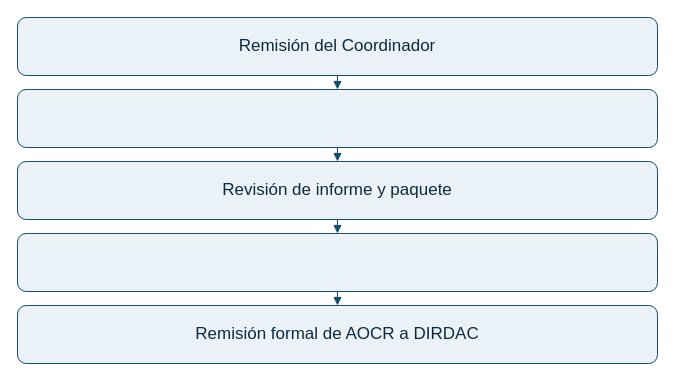
Some shapes in this 675 by 381 pixel diagram are drawn without their labels. The shapes that lost their labels are listed below. From the top down, each one's box as (x1, y1, x2, y2) in pixels, then its label:
(16, 88, 658, 148): Aceptación y designación formal
(16, 232, 658, 292): Firma institucional de CL
